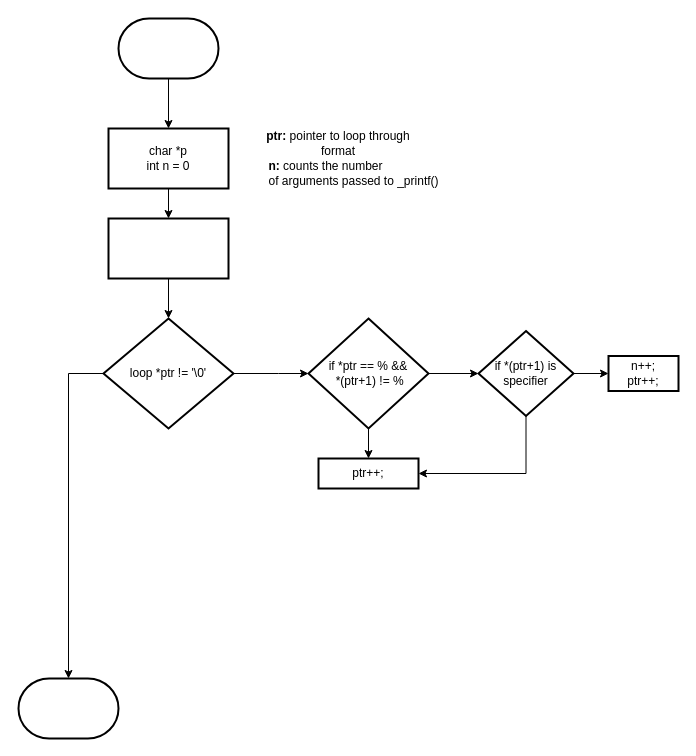
Some shapes in this 696 by 756 pixel diagram are drawn without their labels. Each missing label, with the box of its shape:
End: (17, 677, 119, 739)
ptr = format: (107, 217, 229, 279)
Start: (117, 17, 219, 79)
